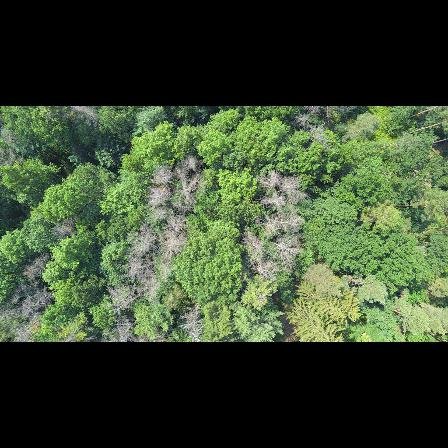Dead: (273, 235, 299, 269), (278, 173, 305, 198), (259, 168, 282, 195), (257, 192, 287, 212), (276, 213, 305, 232), (256, 212, 280, 234)
